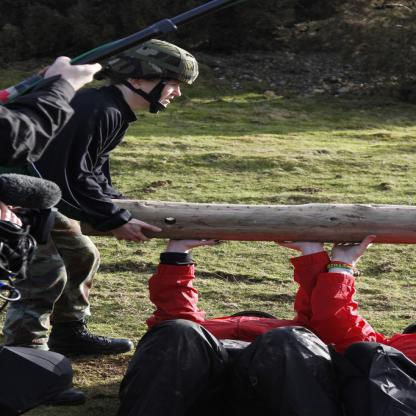Helmet: (83, 49, 197, 104)
